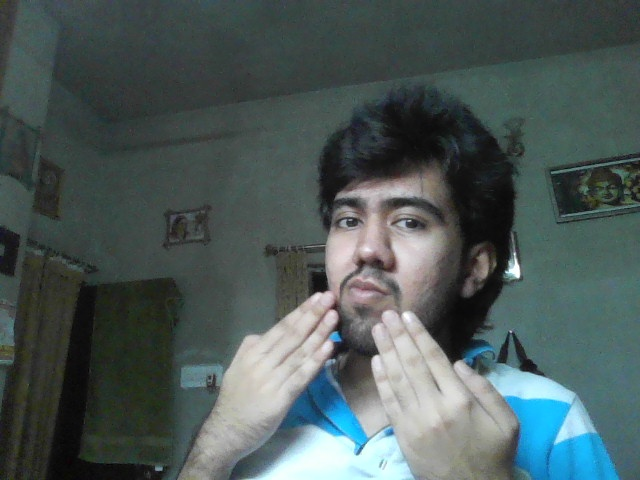ThankYou: (219, 289, 520, 480)
